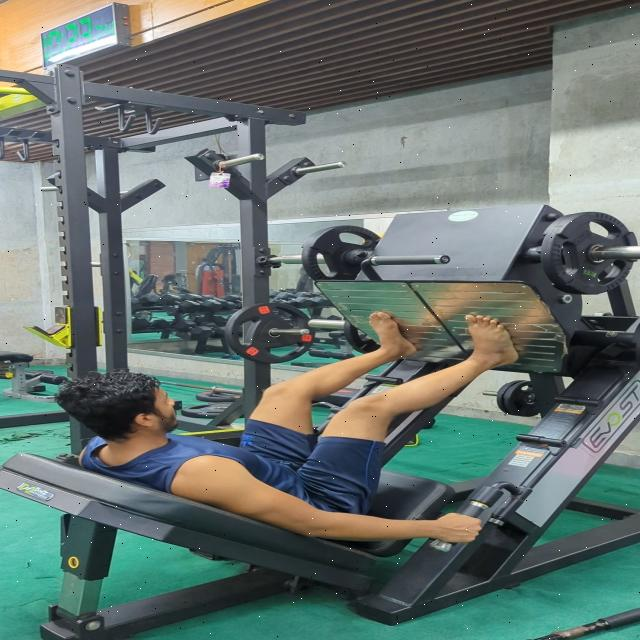Normal_LegPress: (44, 308, 540, 557)
